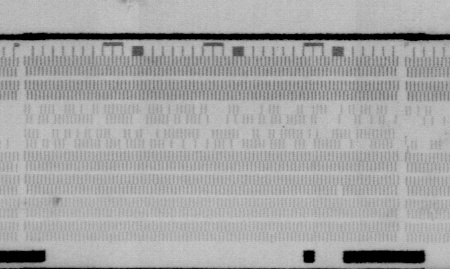Broken hole: (1, 99, 450, 156), (334, 185, 346, 198)
Oblique printing: (427, 210, 438, 223)
